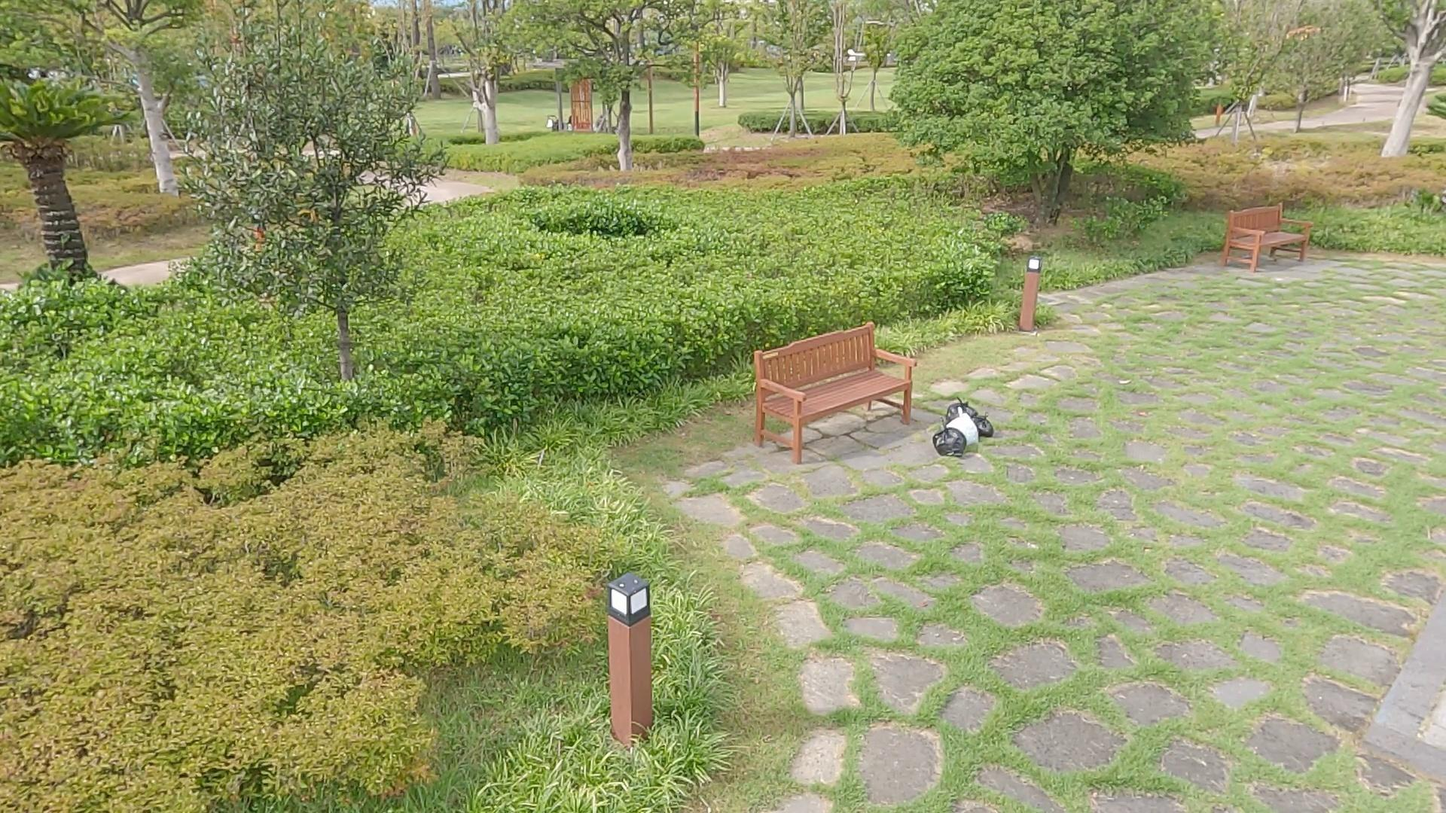trash: (944, 407, 979, 447), (945, 397, 980, 437), (932, 417, 966, 457), (965, 410, 995, 439)
